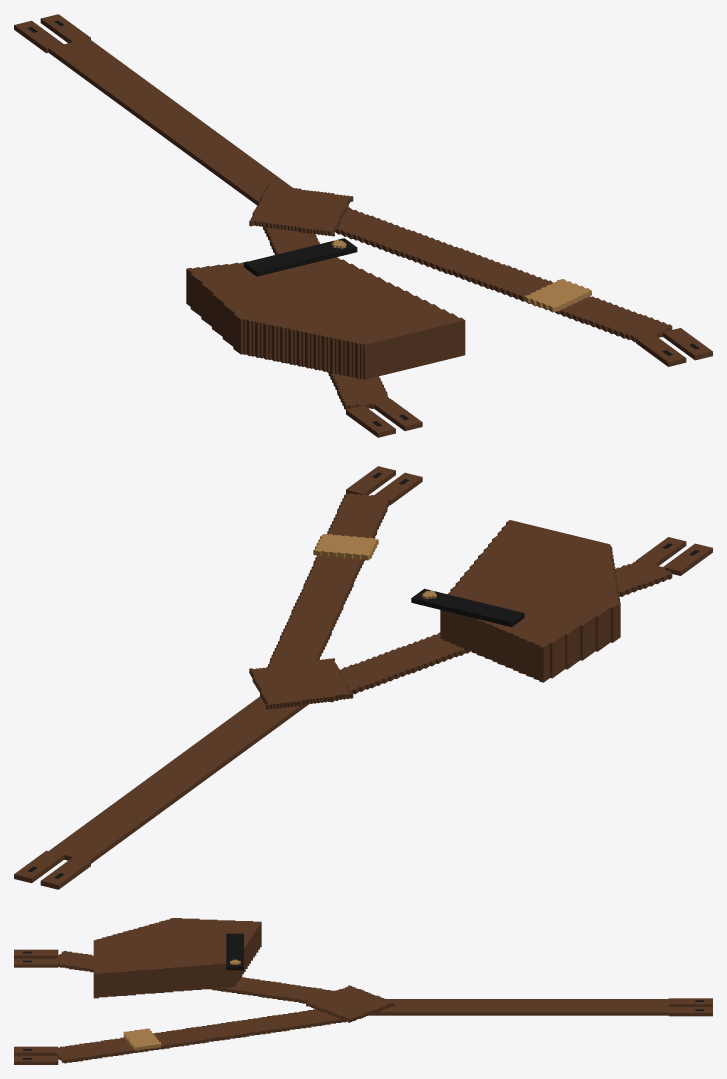
File: suspenders_holster.glb
3 renders of one model, top to bottom at view 1: azimuth 30°, elevation 25°; view 2: azimuth 150°, elevation 25°; view 3: azimuth 270°, elevation 25°, orthographic. The views are drawn at different scales.
Visible parts, largest first — view 1: suspenders_holster:compound; view 2: suspenders_holster:compound; view 3: suspenders_holster:compound.
Boxes of the visible parts, left/top/right/bottom form: suspenders_holster:compound: left=14, top=14, right=712, bottom=437; suspenders_holster:compound: left=14, top=466, right=712, bottom=889; suspenders_holster:compound: left=14, top=918, right=712, bottom=1064.
Bounding box in the file's own units: 0.32 × 0.04 × 0.79.
